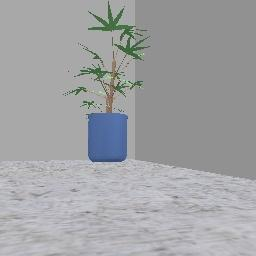planta: (65, 1, 149, 161)
